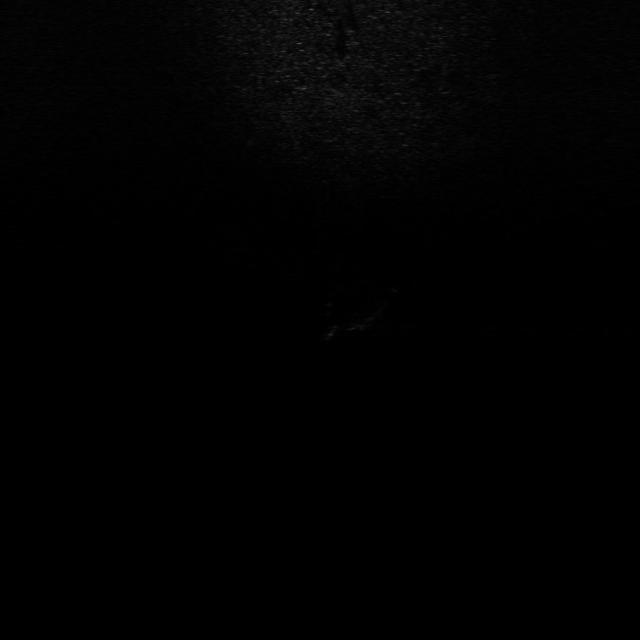human body: (318, 286, 406, 344)
